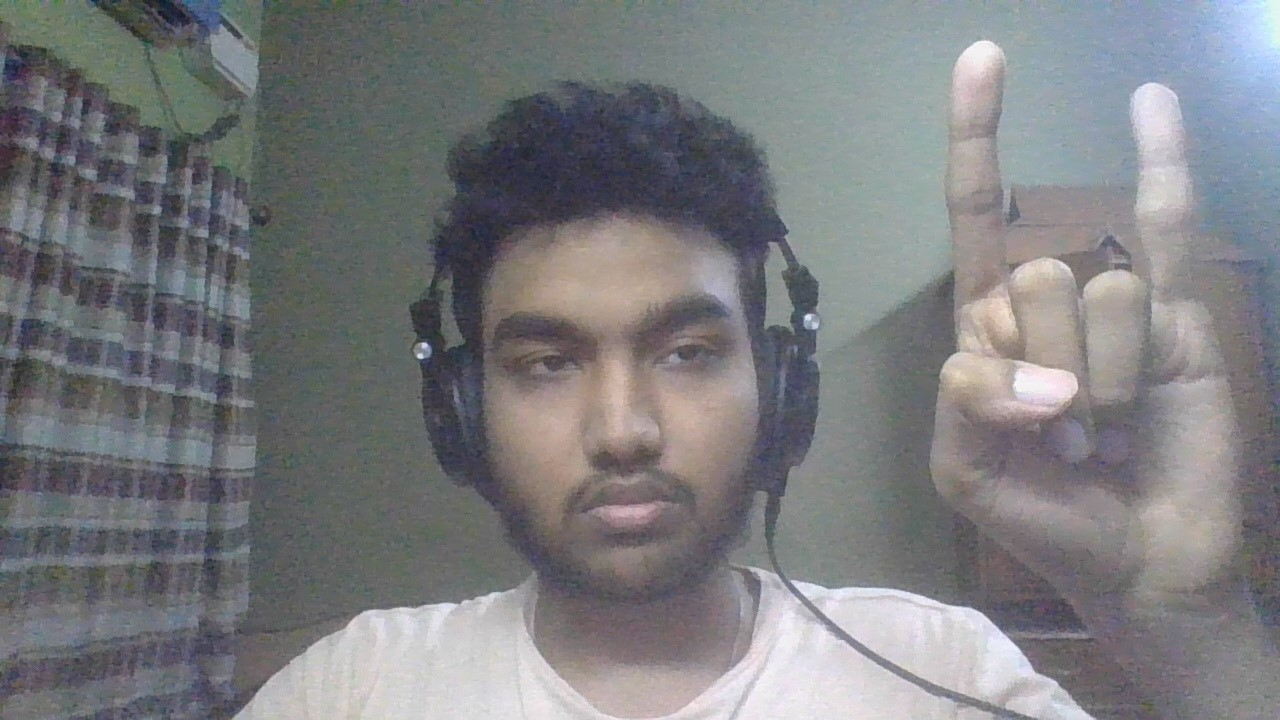Love: (929, 31, 1271, 606)
